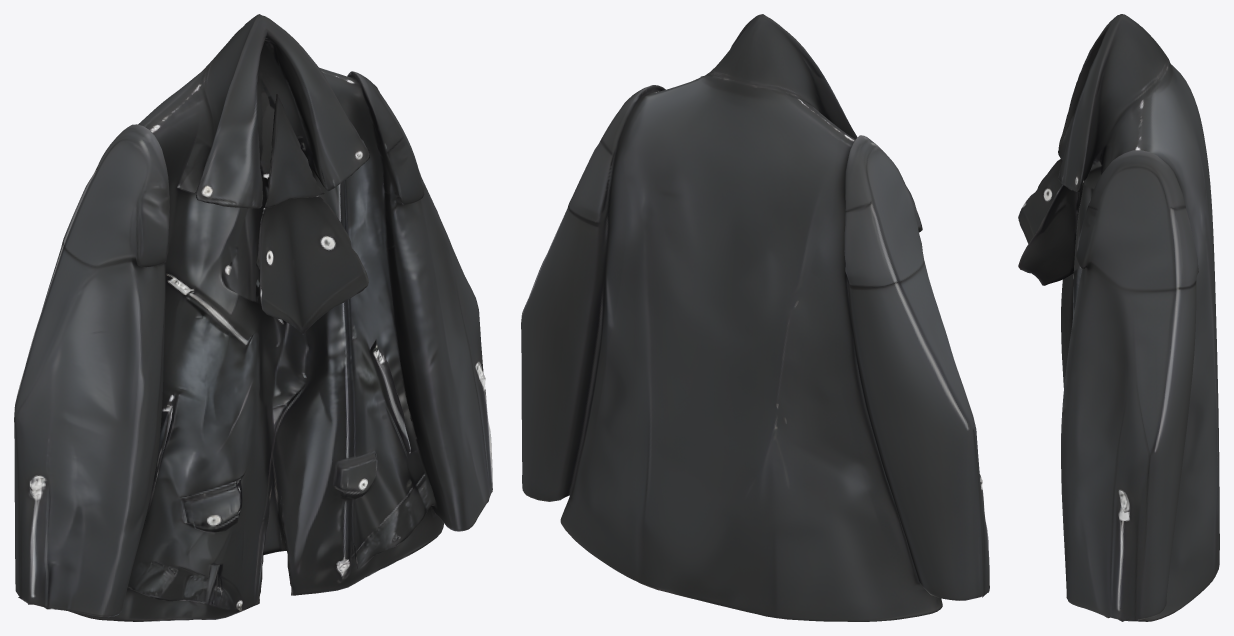
File: hoodie.glb
3 views of the same model, side by side, from view 1: azimuth 30°, elevation 25°; view 2: azimuth 150°, elevation 25°; view 3: azimuth 270°, elevation 25° (orthographic). The views are drawn at different scales.
Parts seen in each view (by area): view 1: model; view 2: model; view 3: model.
Part boxes in pixels (x1,y1,x2,y2): model: (14,14,492,621); model: (521,14,989,621); model: (1018,14,1219,621).
Bounding box in the file's own units: 1.56 × 1.83 × 0.6196.
1 material, 1 textured.
